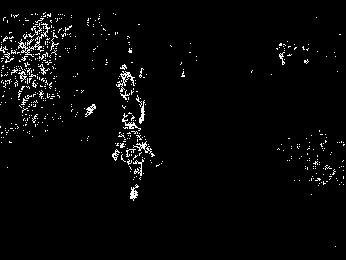person: (110, 109, 160, 210), (114, 62, 138, 108)
